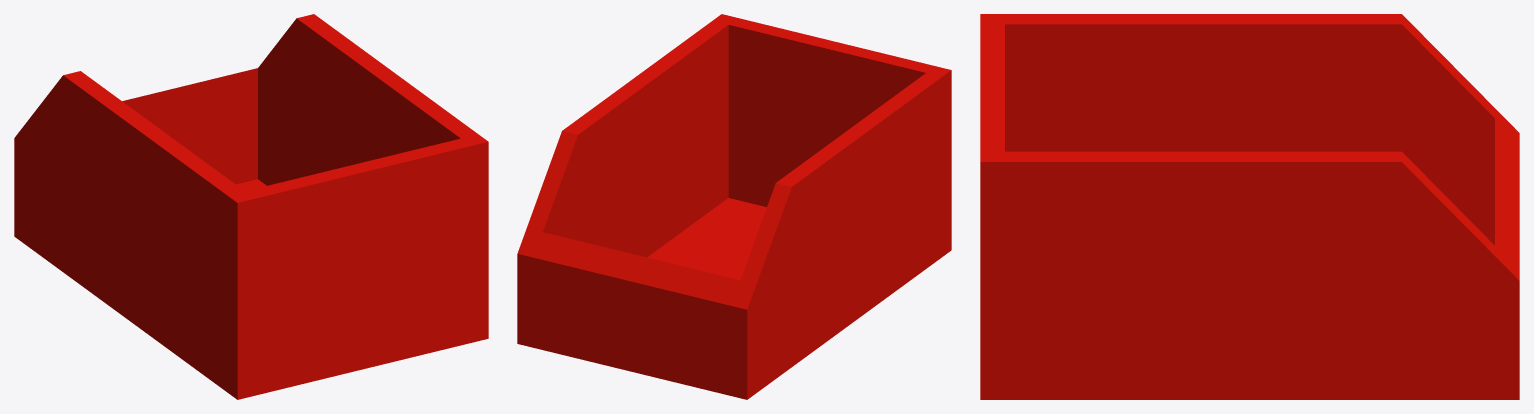
Rendered from ergobox.dae.
3 renders of one model, left to right at view 1: azimuth 30°, elevation 25°; view 2: azimuth 150°, elevation 25°; view 3: azimuth 270°, elevation 25°, orthographic. The views are drawn at different scales.
Visible parts, largest first — view 1: node.002; view 2: node.002; view 3: node.002.
Boxes of the visible parts, <box> form: node.002: <box>14,14,488,399</box>; node.002: <box>517,14,951,399</box>; node.002: <box>980,14,1519,399</box>.
Size of the model in its own units: 0.1 by 0.154 by 0.075.
